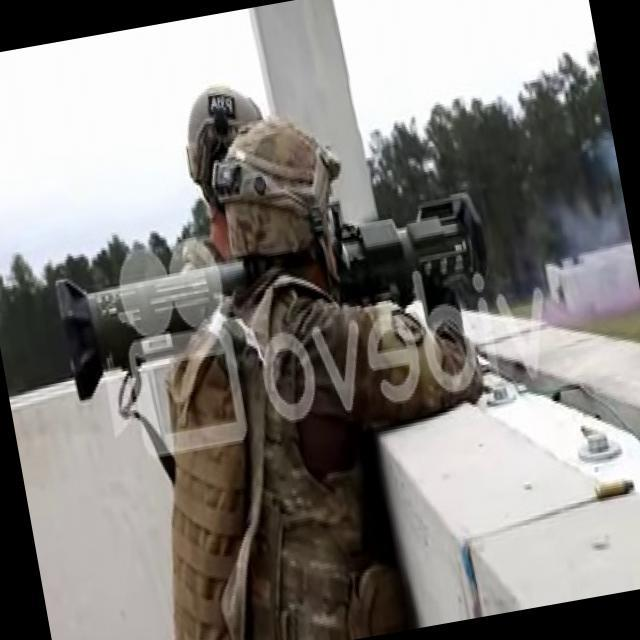rocket: (48, 184, 494, 410)
